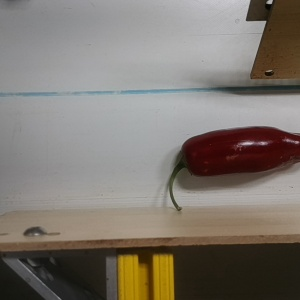Cut Point: (173, 138, 202, 177)
